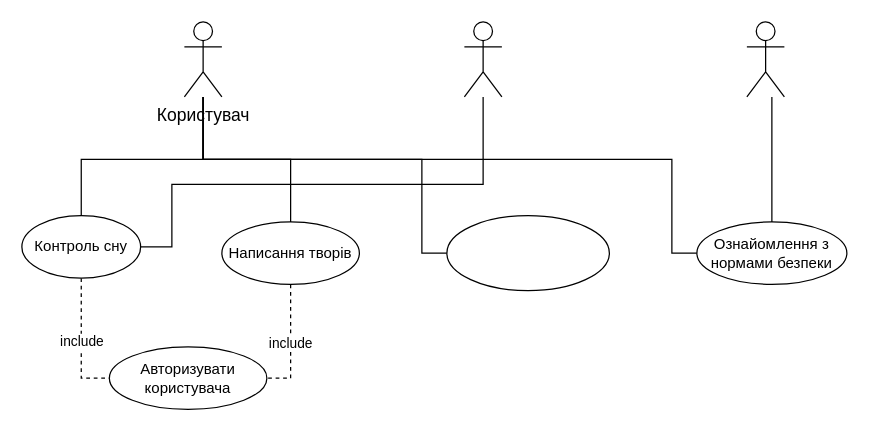
Image size: 869x431. Some labels were removed from this diagram. The shapes that lost their labels are listed below. From the top down, each one's centre as x and y in pixels, then its label:
At point 482,59: "Зовнішній сервіс".
At point 765,59: "Адміністратор".
At point 527,252: "Перегляд особистих досягнень".
